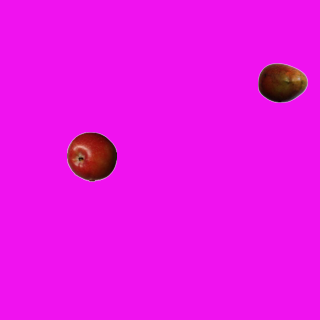Apple Braeburn: (66, 131, 116, 181)
Mango Red: (257, 57, 307, 107)
